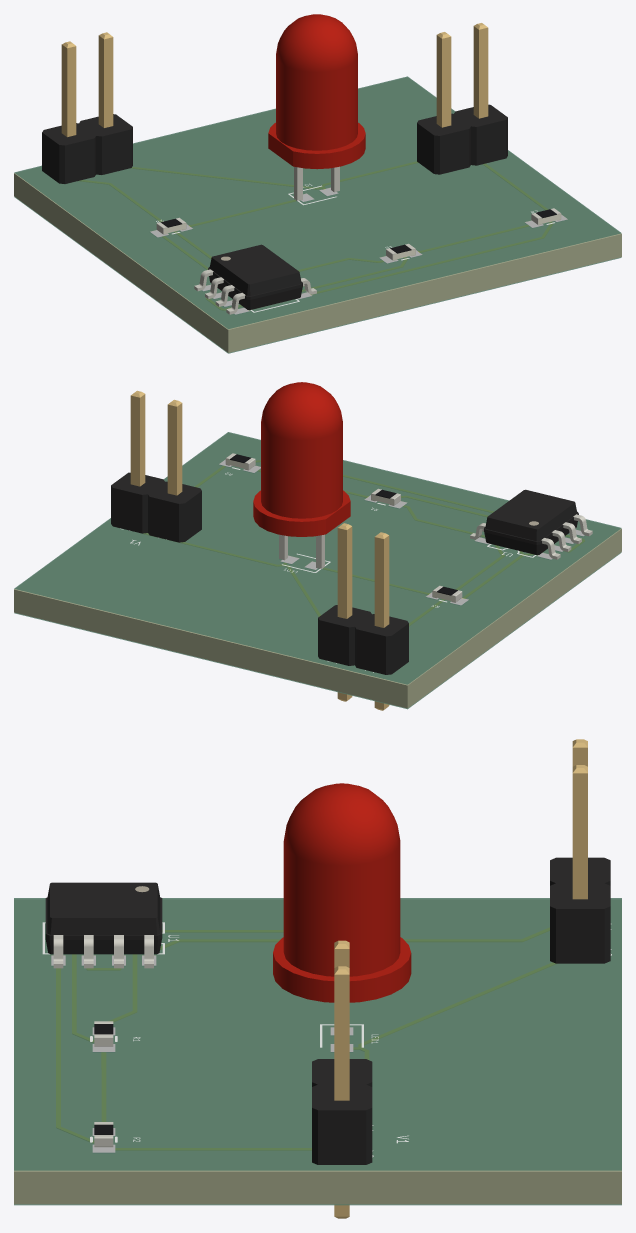
File: opamp-amp.glb
3 views of the same model, one above another, from view 1: azimuth 30°, elevation 25°; view 2: azimuth 150°, elevation 25°; view 3: azimuth 270°, elevation 25° (orthographic). The views are drawn at different scales.
Parts seen in each view (by area): view 1: =>[0:1:1:16], =>[0:1:1:14], =>[0:1:1:5] (×2), =>[0:1:1:9], =>[0:1:1:7], =>[0:1:1:10], =>[0:1:1:15], =>[0:1:1:11]; view 2: =>[0:1:1:16], =>[0:1:1:14], =>[0:1:1:5] (×2), =>[0:1:1:9], =>[0:1:1:7], =>[0:1:1:10], =>[0:1:1:15], =>[0:1:1:11]; view 3: =>[0:1:1:16], =>[0:1:1:14], =>[0:1:1:9], =>[0:1:1:5] (×2), =>[0:1:1:7], =>[0:1:1:10], =>[0:1:1:15], =>[0:1:1:11], =>[0:1:1:13].
Part boxes in pixels (left/top/right/bottom): =>[0:1:1:16]: left=14, top=78, right=621, bottom=352; =>[0:1:1:14]: left=14, top=76, right=621, bottom=329; =>[0:1:1:5] (×2): left=42, top=23, right=507, bottom=183; =>[0:1:1:9]: left=268, top=14, right=365, bottom=201; =>[0:1:1:7]: left=194, top=244, right=316, bottom=314; =>[0:1:1:10]: left=82, top=162, right=552, bottom=309; =>[0:1:1:15]: left=14, top=196, right=621, bottom=353; =>[0:1:1:11]: left=150, top=187, right=567, bottom=314; =>[0:1:1:16]: left=14, top=433, right=621, bottom=708; =>[0:1:1:14]: left=14, top=432, right=621, bottom=684; =>[0:1:1:5] (×2): left=111, top=390, right=408, bottom=710; =>[0:1:1:9]: left=253, top=382, right=350, bottom=568; =>[0:1:1:7]: left=470, top=489, right=592, bottom=559; =>[0:1:1:10]: left=146, top=460, right=584, bottom=625; =>[0:1:1:15]: left=14, top=552, right=621, bottom=709; =>[0:1:1:11]: left=219, top=459, right=584, bottom=605; =>[0:1:1:16]: left=14, top=900, right=621, bottom=1204; =>[0:1:1:14]: left=14, top=898, right=621, bottom=1170; =>[0:1:1:9]: left=273, top=783, right=411, bottom=1002; =>[0:1:1:5] (×2): left=312, top=739, right=610, bottom=1218; =>[0:1:1:7]: left=45, top=882, right=162, bottom=968; =>[0:1:1:10]: left=56, top=928, right=554, bottom=1149; =>[0:1:1:15]: left=14, top=1204, right=621, bottom=1205; =>[0:1:1:11]: left=51, top=955, right=353, bottom=1152; =>[0:1:1:13]: left=42, top=922, right=611, bottom=1157.
Bounding box in the file's own units: 0.0271 × 0.0146 × 0.0255.
